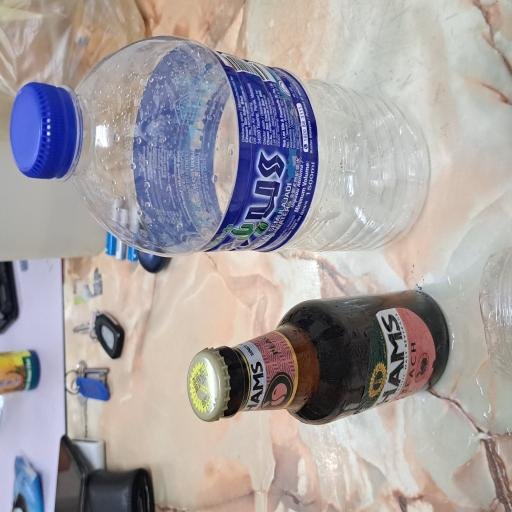glass bottle: (65, 247, 166, 512)
plastic bottle: (193, 12, 356, 512)
plastic bottle cap: (250, 14, 322, 105)
